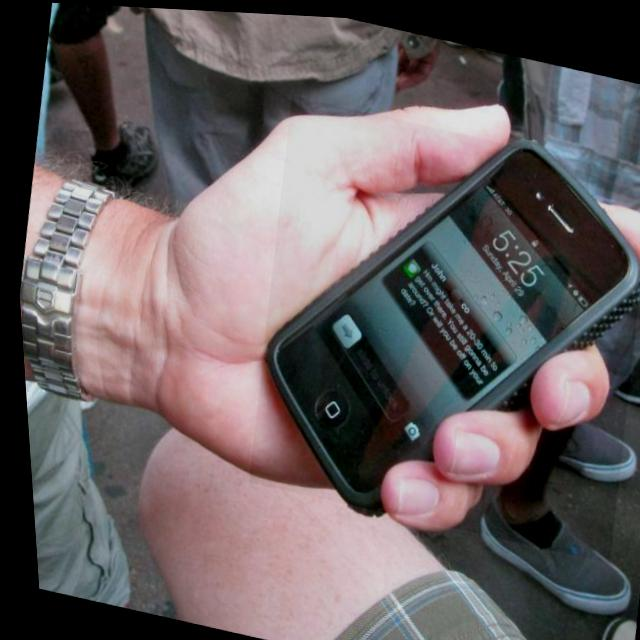Smartphone: (240, 121, 640, 533)
